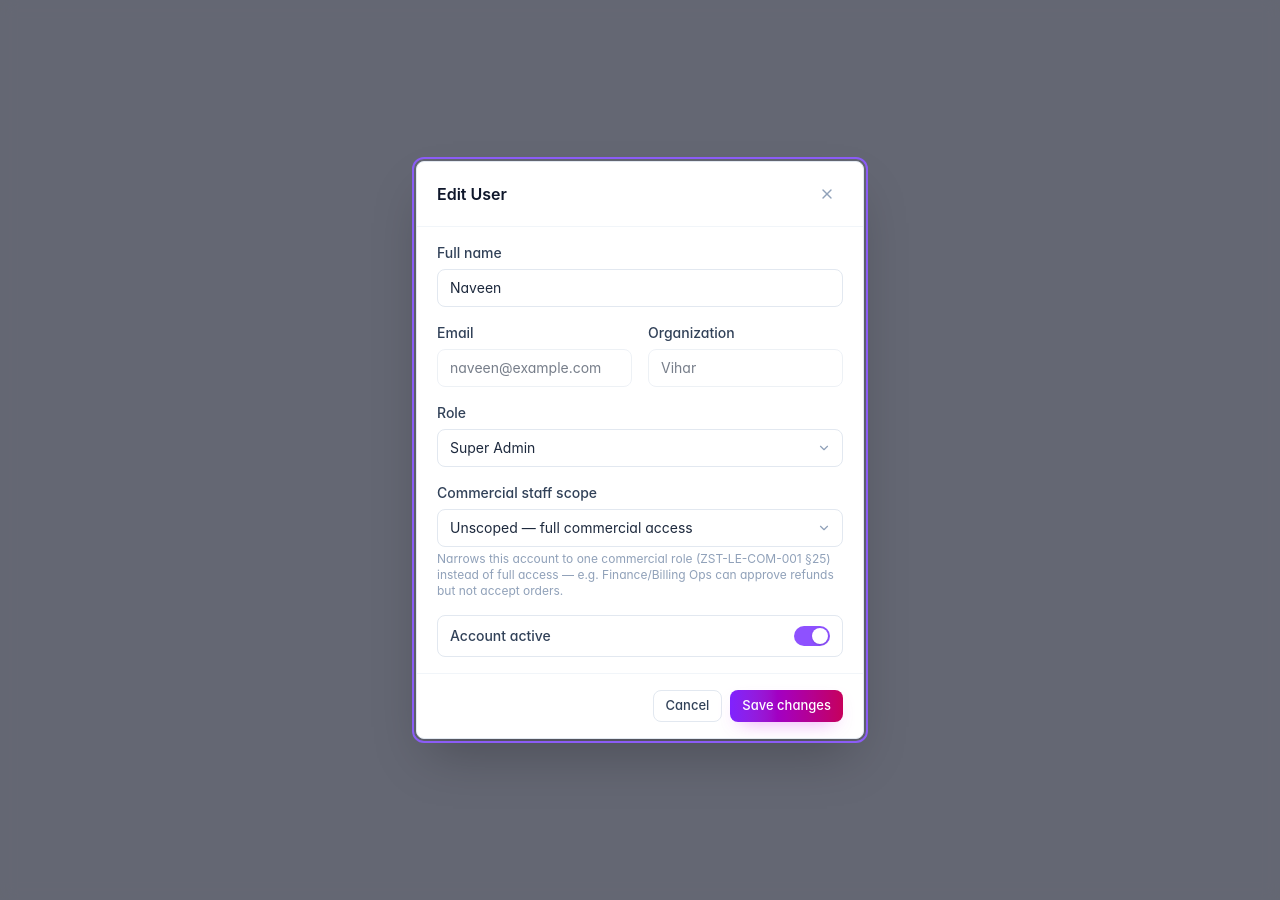
Test case: the step-up stays proportionate › does demand it to deactivate a Super Admin
Step 1. Click the switch → (500, 636), box [437,615,843,657]
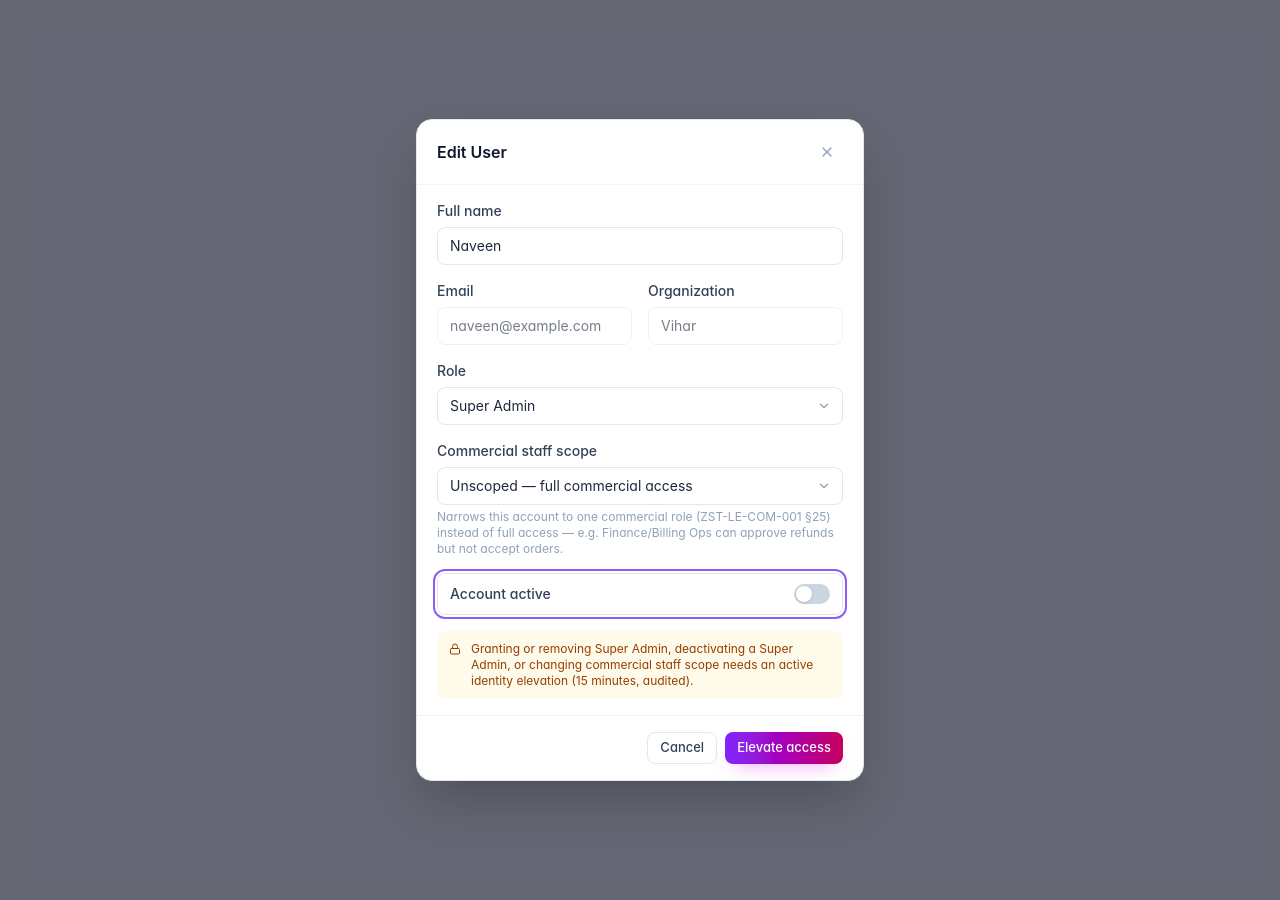
Result: the message shows "needs an active identity elevation" at [471,641,813,688]
Result: the button "Elevate access" is shown at [725,732,843,764]
